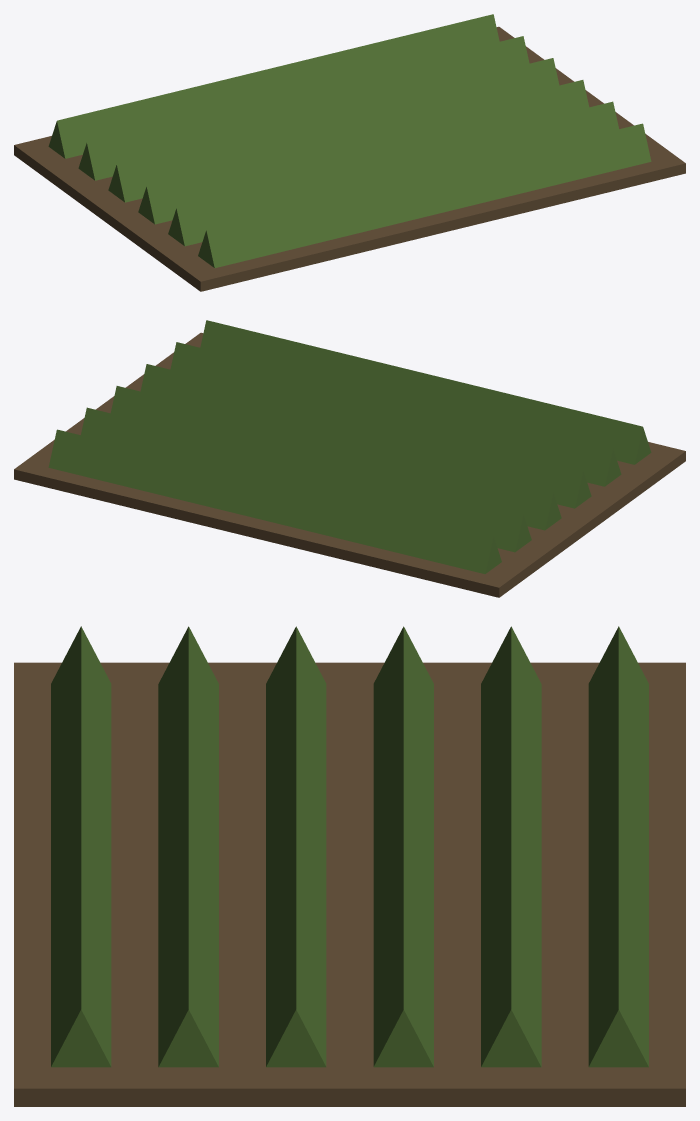
The model's file is garden.glb.
The picture shows the model from 3 angles, top to bottom: view 1: azimuth 30°, elevation 25°; view 2: azimuth 150°, elevation 25°; view 3: azimuth 270°, elevation 25°; orthographic projection. The views are drawn at different scales.
Visible parts, largest first — view 1: garden; view 2: garden; view 3: garden.
Boxes of the visible parts, x1,y1,x2,y2 form: garden: [14, 14, 685, 291]; garden: [14, 320, 685, 597]; garden: [14, 626, 685, 1106].
Size of the model in its own units: 6 by 0.5 by 4.
